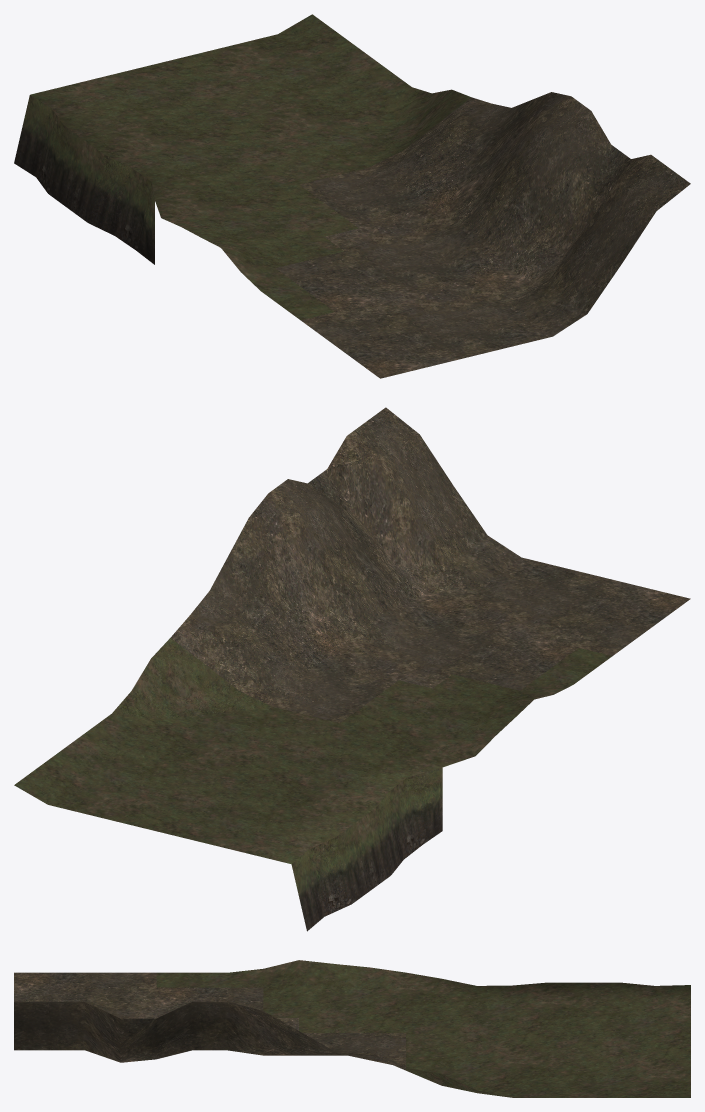
File: terrain_base05.fbx
The picture shows the model from 3 angles, top to bottom: view 1: azimuth 30°, elevation 25°; view 2: azimuth 150°, elevation 25°; view 3: azimuth 270°, elevation 25°; orthographic projection. The views are drawn at different scales.
Parts seen in each view (by area): view 1: terrain_base05-0; view 2: terrain_base05-0; view 3: terrain_base05-0.
Part boxes in pixels (left/top/right/bottom): terrain_base05-0: left=14, top=14, right=690, bottom=378; terrain_base05-0: left=14, top=407, right=690, bottom=931; terrain_base05-0: left=14, top=960, right=690, bottom=1097.
Bounding box in the file's own units: 22.5 × 12.72 × 47.5.
